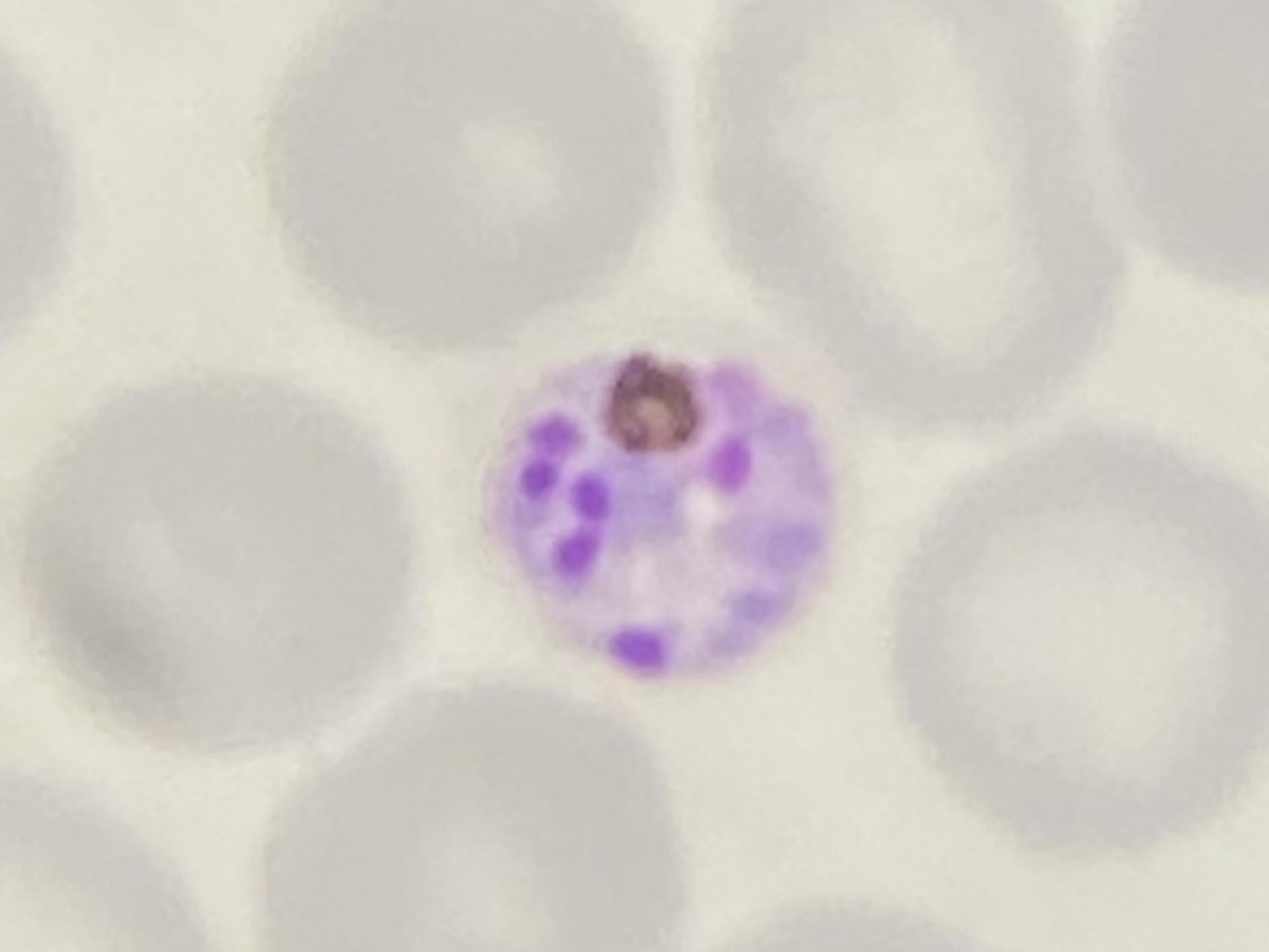Infected: (471, 331, 842, 705)
Uninfected: (705, 0, 1129, 442), (886, 441, 1269, 865), (13, 373, 414, 761), (264, 0, 677, 344), (267, 677, 690, 952)
